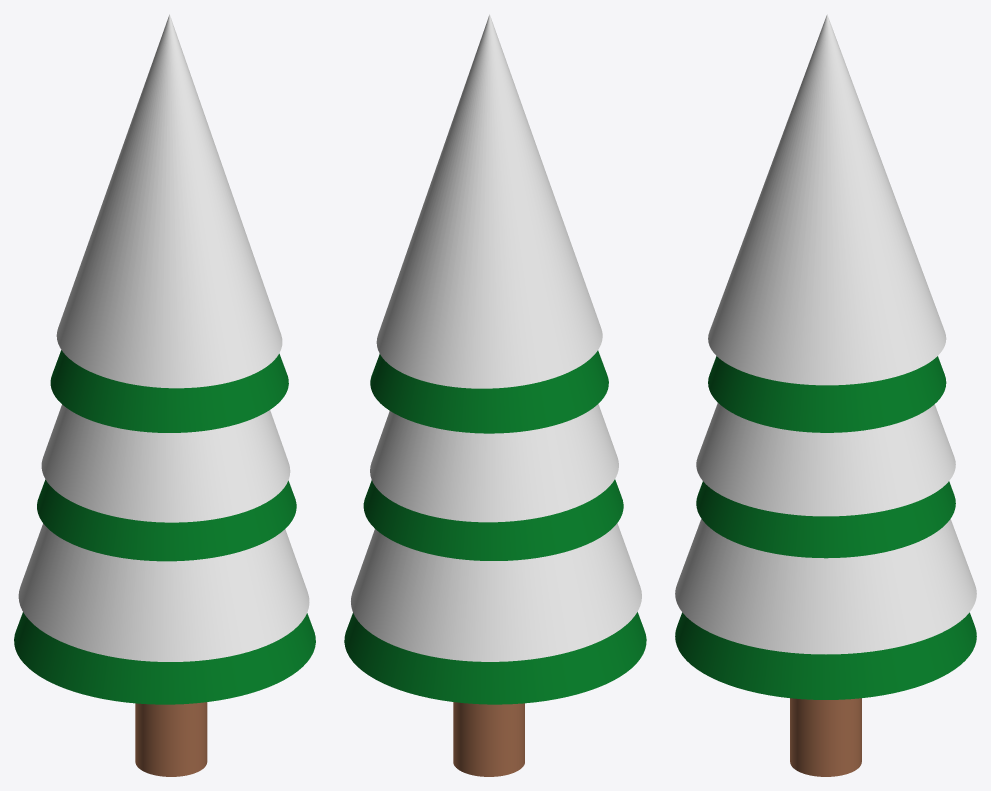
Rendered from arvore2.glb.
3 renders of one model, left to right at view 1: azimuth 30°, elevation 25°; view 2: azimuth 150°, elevation 25°; view 3: azimuth 270°, elevation 25°, orthographic.
Parts seen in each view (by area): view 1: mesh_id63, mesh_id75, mesh_id69, mesh_id33, mesh_id57, mesh_id51, mesh_id78; view 2: mesh_id63, mesh_id75, mesh_id69, mesh_id33, mesh_id57, mesh_id51, mesh_id78; view 3: mesh_id63, mesh_id75, mesh_id69, mesh_id33, mesh_id57, mesh_id51, mesh_id78.
Part boxes in pixels (<box>): mesh_id63: <box>56,14,282,388</box>; mesh_id75: <box>18,523,309,661</box>; mesh_id69: <box>41,404,290,522</box>; mesh_id33: <box>14,612,315,704</box>; mesh_id57: <box>50,350,288,432</box>; mesh_id51: <box>37,479,296,561</box>; mesh_id78: <box>135,702,207,776</box>; mesh_id63: <box>376,14,602,388</box>; mesh_id75: <box>351,523,641,661</box>; mesh_id69: <box>370,404,618,522</box>; mesh_id33: <box>344,612,646,704</box>; mesh_id57: <box>370,350,608,433</box>; mesh_id51: <box>363,479,623,560</box>; mesh_id78: <box>453,702,524,776</box>; mesh_id63: <box>708,14,946,385</box>; mesh_id75: <box>675,519,976,654</box>; mesh_id69: <box>696,403,955,516</box>; mesh_id33: <box>675,612,976,699</box>; mesh_id57: <box>708,356,946,432</box>; mesh_id51: <box>696,481,955,558</box>; mesh_id78: <box>790,698,861,776</box>.
Size of the model in its own units: 0.1396 by 0.3815 by 0.1396.
Materials: 7 (7 with a texture image).
